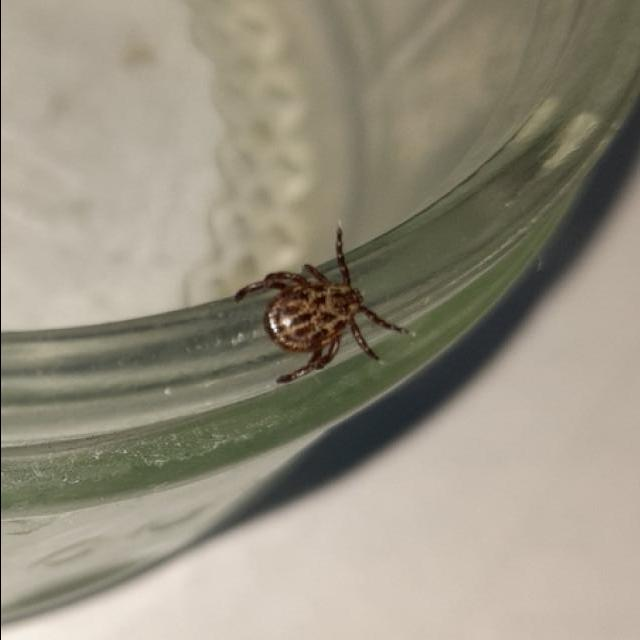Dermacentor Reticulatus-M: (234, 228, 408, 384)
